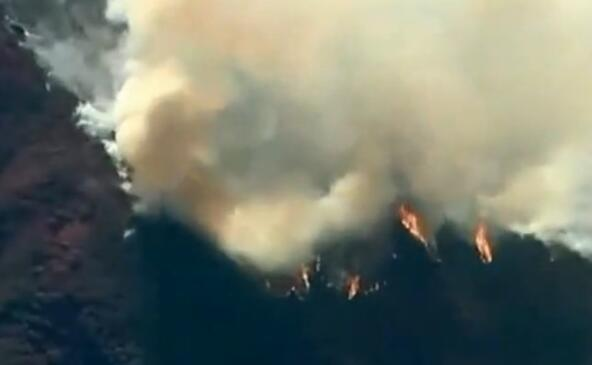fire: (290, 261, 364, 300), (396, 202, 438, 260), (473, 216, 493, 266)
yanwu: (75, 1, 592, 287)
